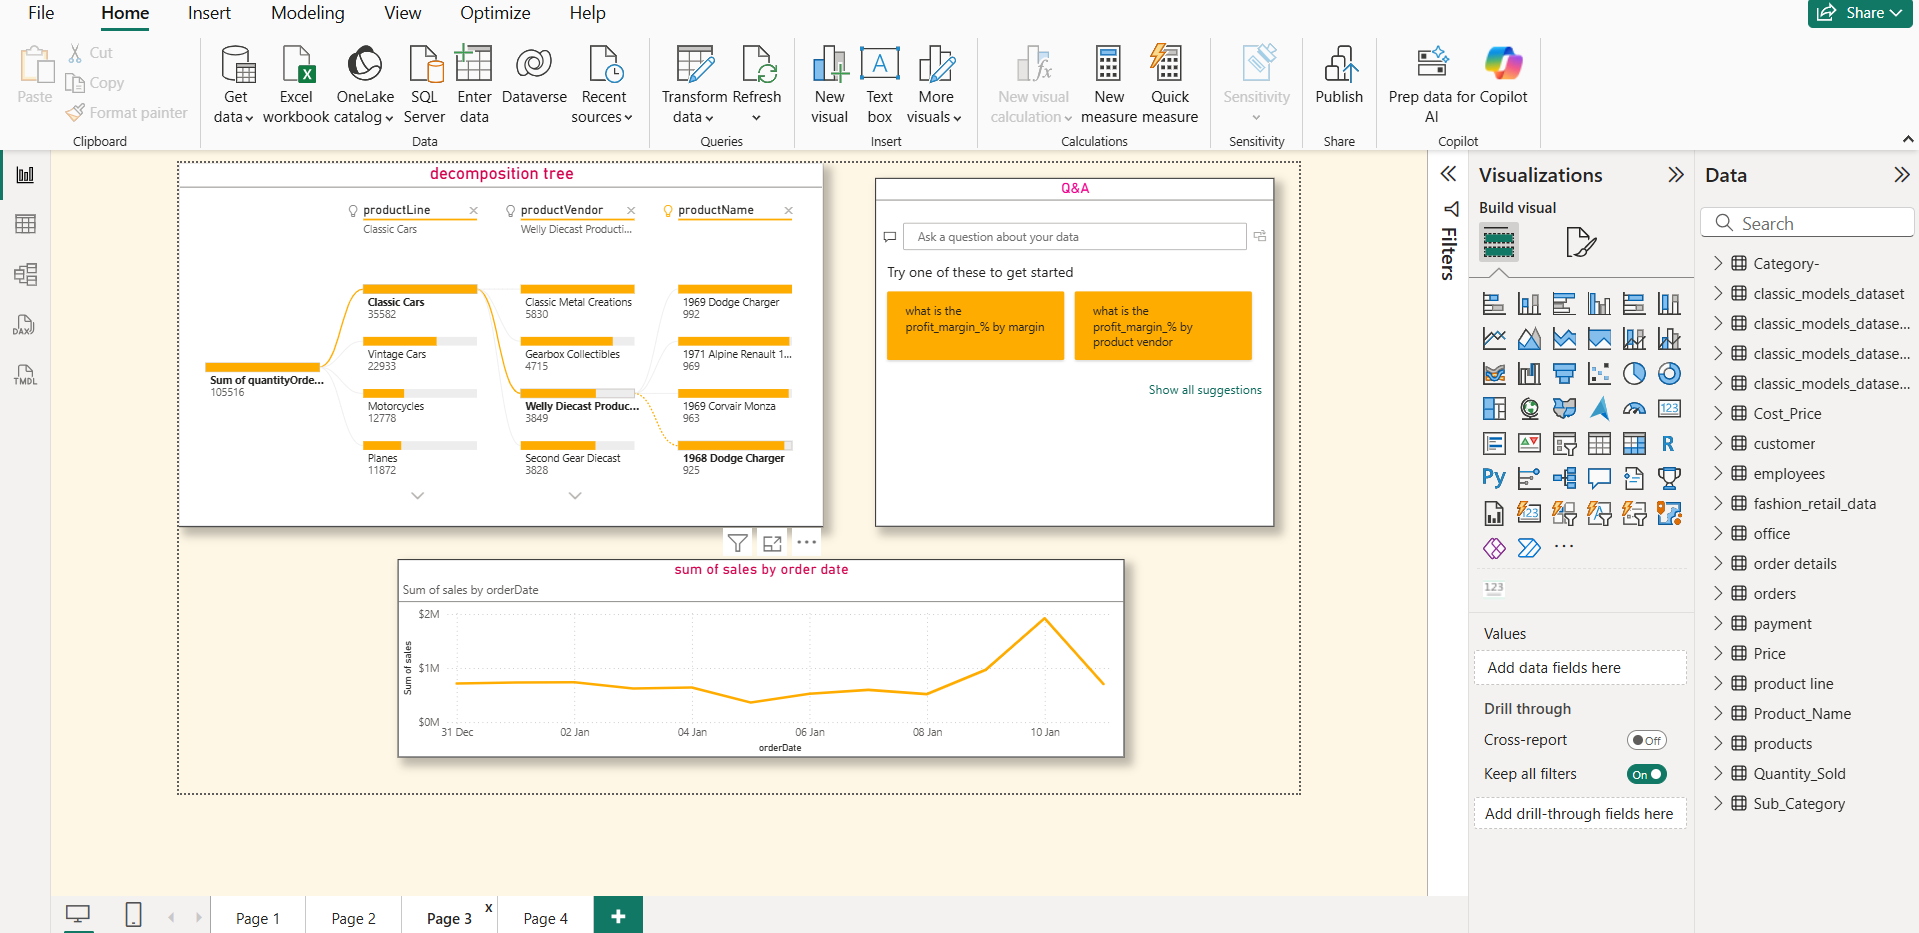

This screenshot's page, from the dashboard's own definition file:
{"tool":"powerbi","page":{"name":"Page 3","canvas":[1280,720],"ordinal":2},"visuals":[{"type":"decompositionTreeVisual","title":"decomposition tree","fields":{"Analyze":["Sum(order details.quantityOrdered)"],"ExplainBy":["product line.productLine","products.productVendor","products.productName"]},"box":[0,0,736.2,416.2],"z":0},{"type":"qnaVisual","title":"Q&A","box":[796.2,17.5,456.2,398.8],"z":1000},{"type":"lineChart","title":"sum of sales by order date ","fields":{"Y":["Sum(order details.sales)"],"Category":["orders.orderDate"]},"box":[250,452.5,830,226.2],"z":2000}]}

Visuals, with their boxes on the page's 1280x720 design canvas (x1, y1, x2, y2). These are canvas units, not pixel positions in the 1919x933 screenshot, which may show the page scaled, cropped or inside an application window:
"decomposition tree" decompositionTreeVisual: 0/0/736/416
"Q&A" qnaVisual: 796/18/1252/416
"sum of sales by order date " lineChart: 250/452/1080/679
